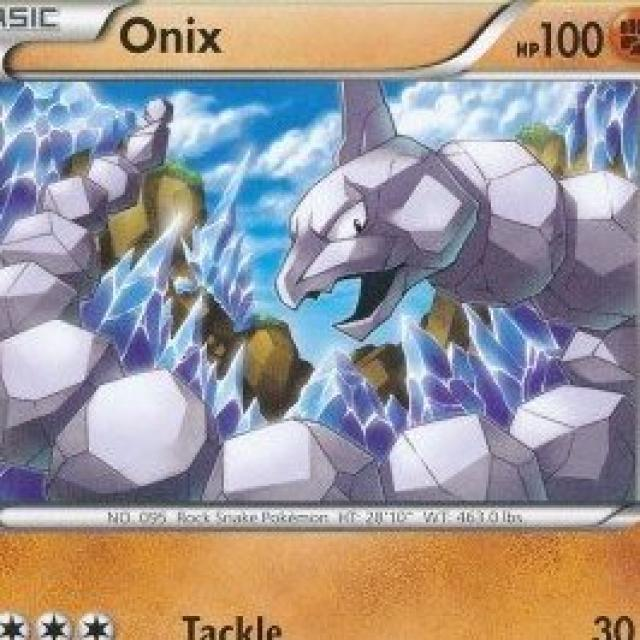Onix: (283, 141, 640, 497)
